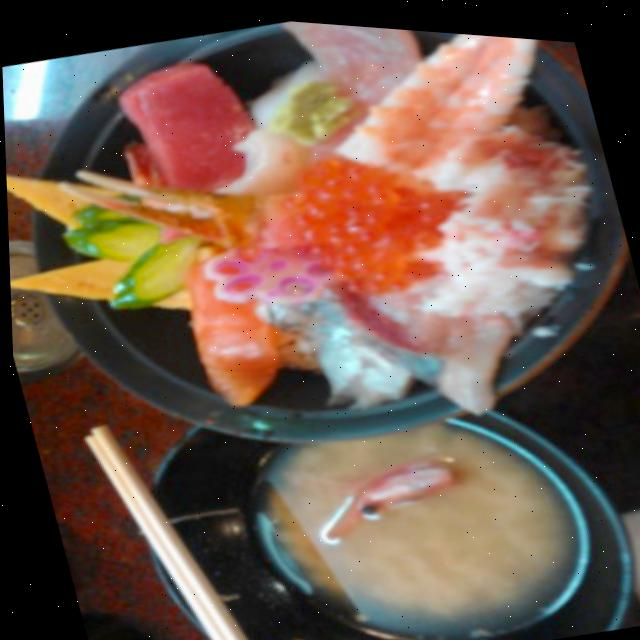刺身生食: (0, 0, 640, 515)
汤锅炖物: (101, 334, 640, 640)
